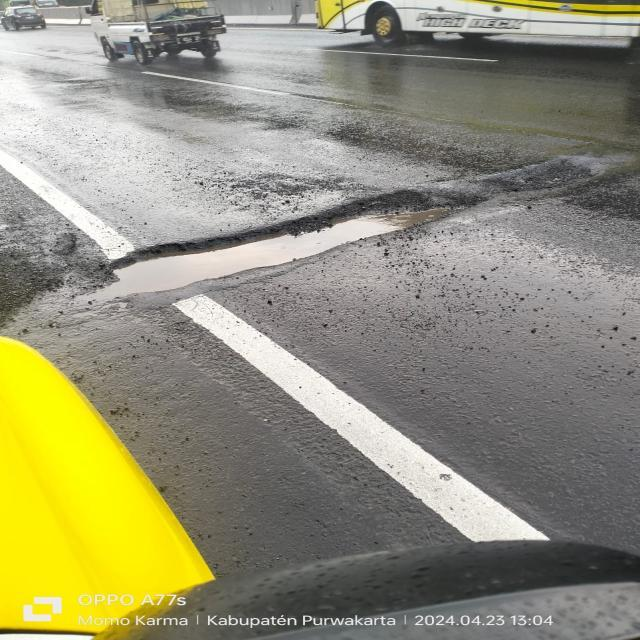Buraco: (68, 187, 492, 310), (47, 76, 126, 92)
